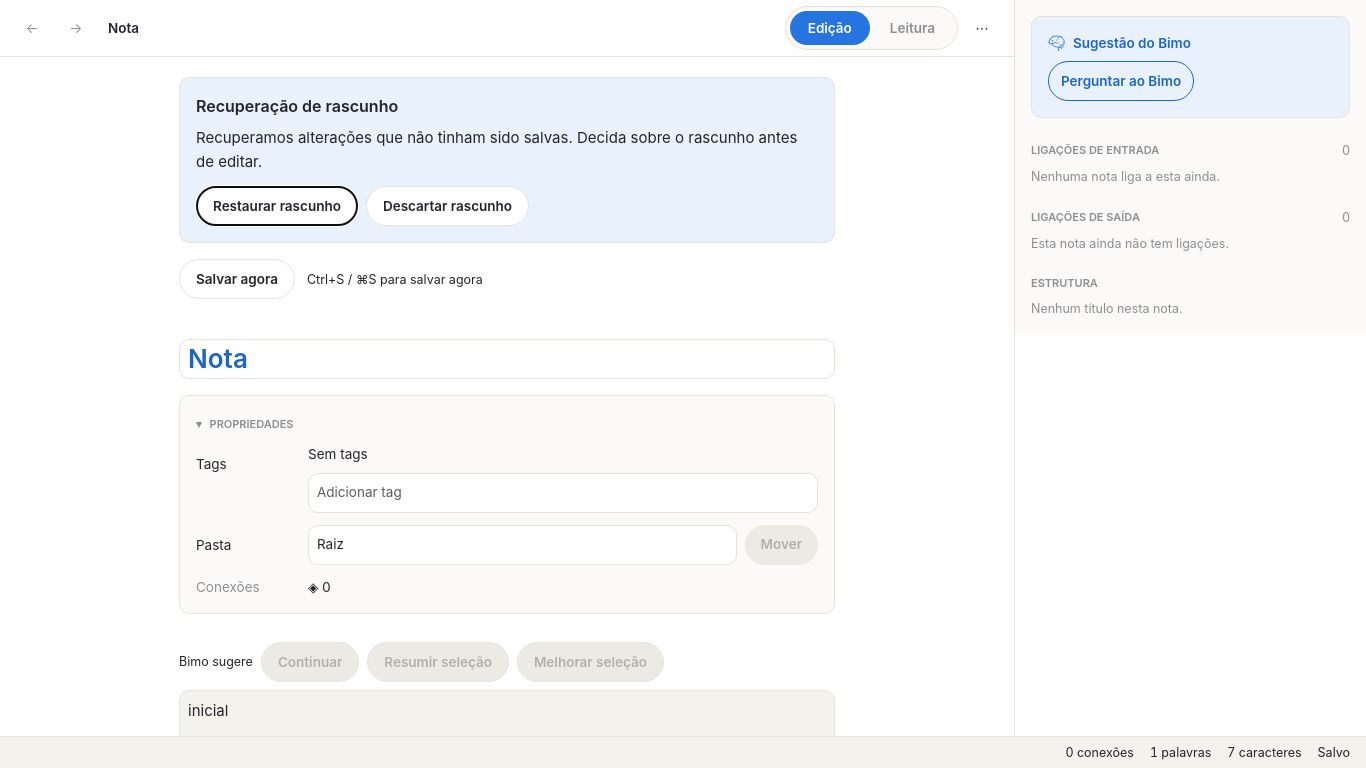
oferece e restaura rascunho recuperável
Check: the element "Recuperação de rascunho" is shown, box [147,57,867,243]
Click the button "Restaurar rascunho": point(277, 206) [196,186,358,226]
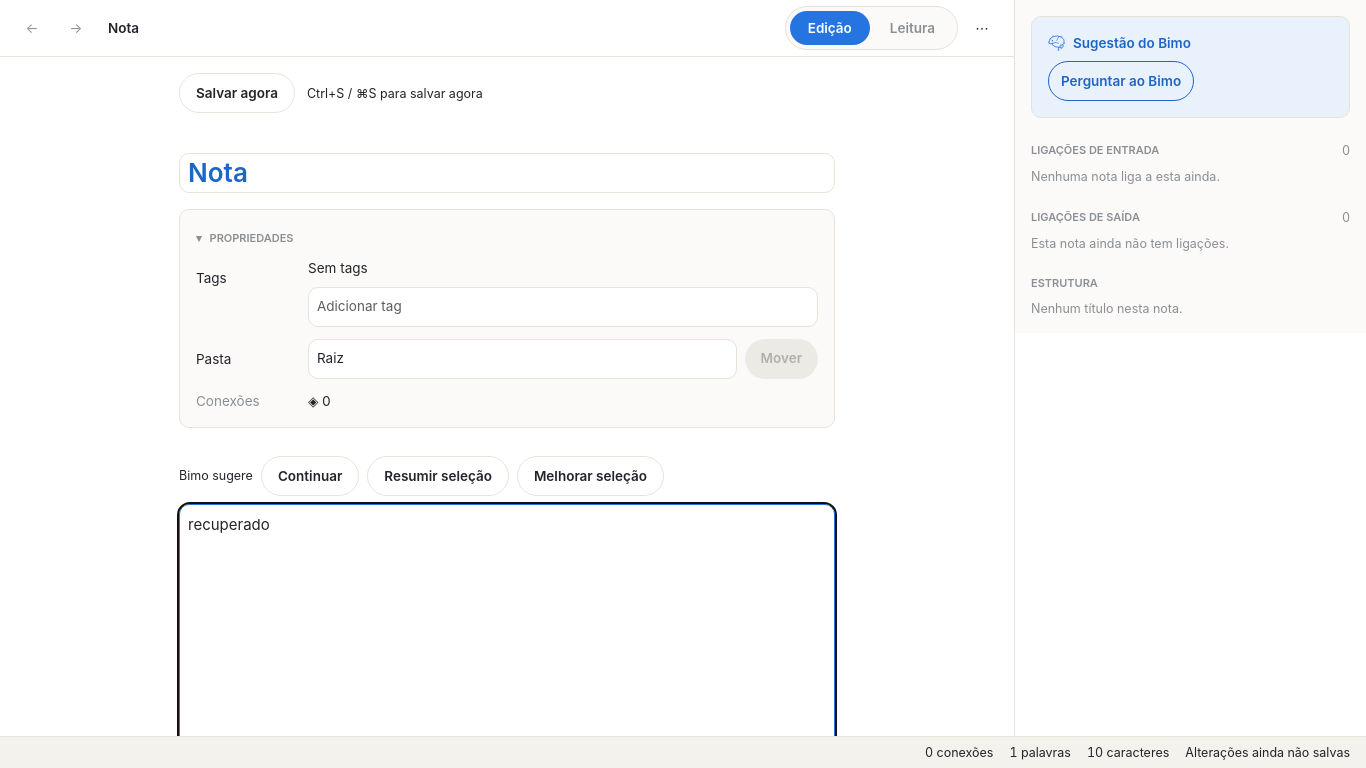
Check: the text box named "Texto da nota" holds "recuperado", box [179,504,835,736]
